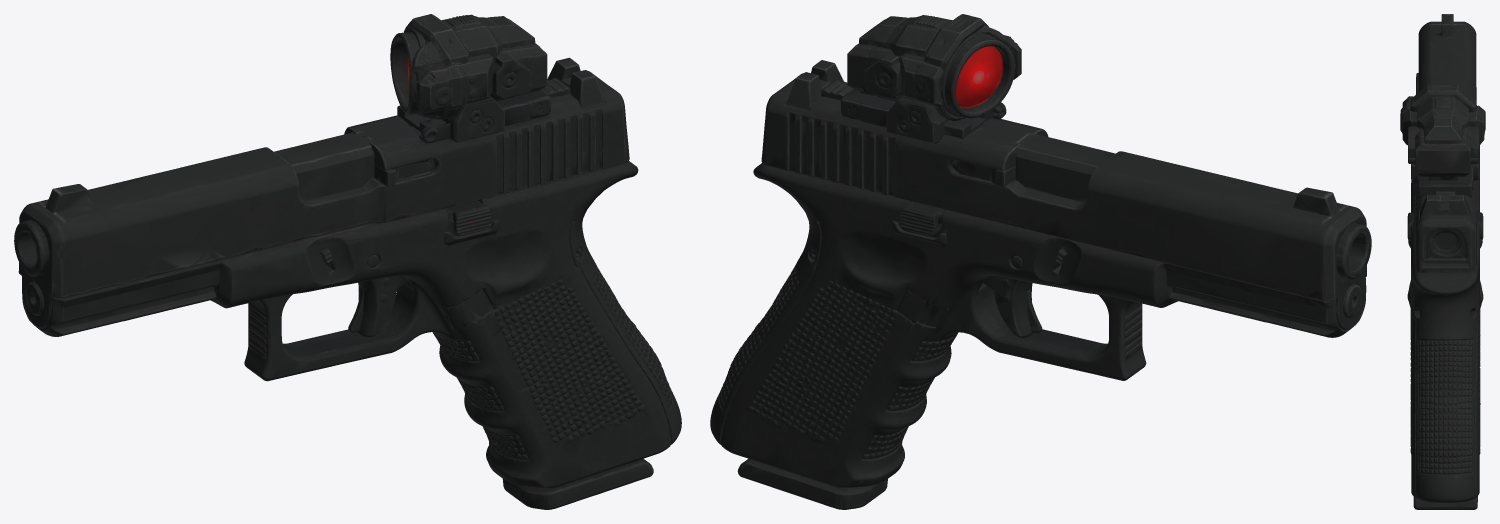
Rendered from pistol.glb.
The picture shows the model from 3 angles, left to right: view 1: azimuth 30°, elevation 25°; view 2: azimuth 150°, elevation 25°; view 3: azimuth 270°, elevation 25°; orthographic projection. The views are drawn at different scales.
Bounding box in the file's own units: 1.9 × 1.4 × 0.3001.
1 material, 1 textured.
